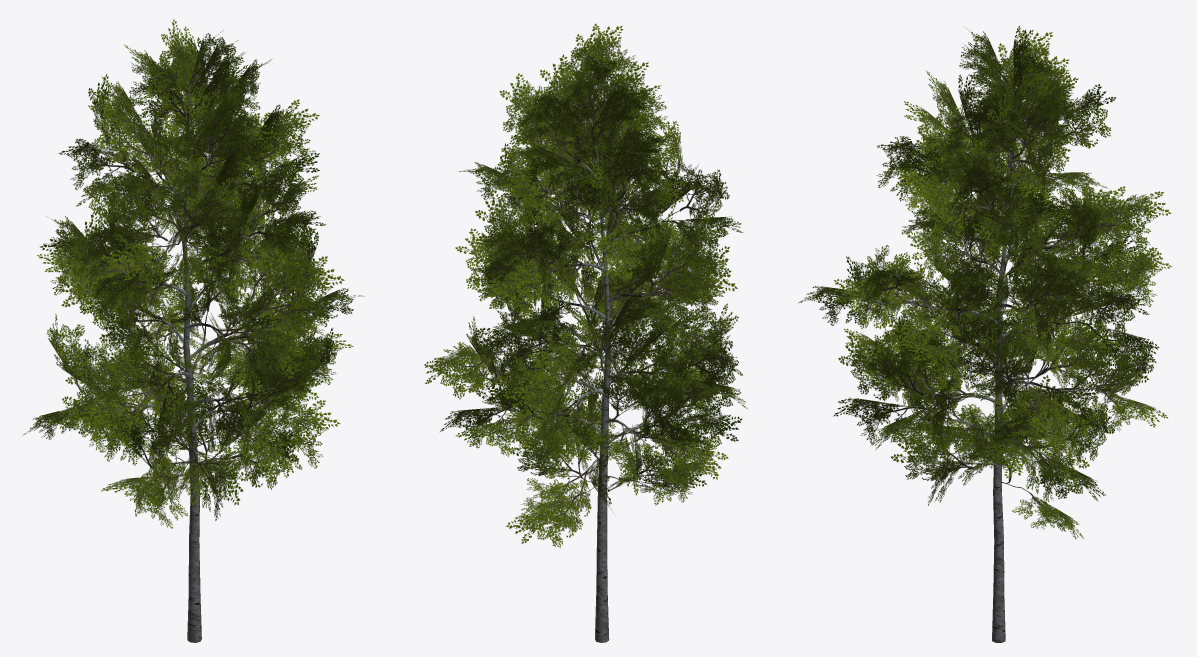
File: birch_tree.glb
3 renders of one model, left to right at view 1: azimuth 30°, elevation 25°; view 2: azimuth 150°, elevation 25°; view 3: azimuth 270°, elevation 25°, orthographic.
Parts seen in each view (by area): view 1: Object_55; view 2: Object_55; view 3: Object_55.
Part boxes in pixels (x1=…): Object_55: x1=22, y1=19, x2=364, y2=642; Object_55: x1=424, y1=23, x2=747, y2=642; Object_55: x1=798, y1=25, x2=1171, y2=642.
Size of the model in its own units: 9.14 by 17.18 by 9.71.
Materials: 2 (2 with a texture image).
